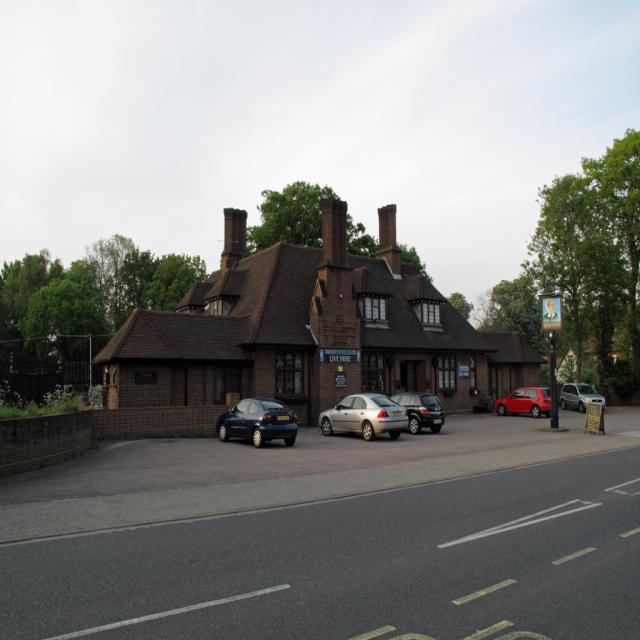car: (316, 387, 410, 442), (213, 397, 304, 451)
